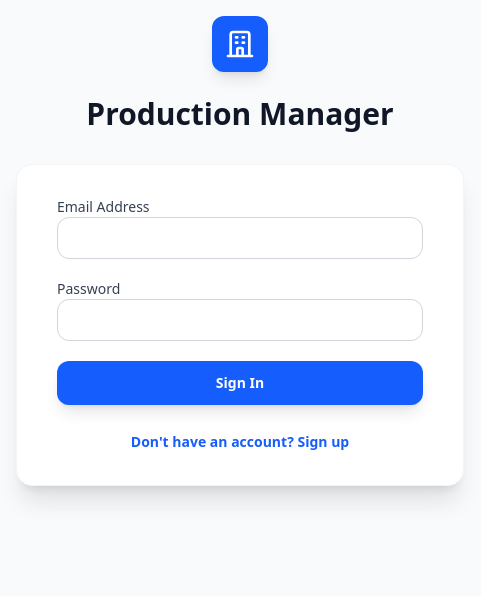
Test: Authentication › should fail to login with incorrect credentials
Type "wrong@admin.com" into the field with test id "email-input". click: {"x": 240, "y": 238}
box: top-left (57, 217), bottom-right (423, 259)
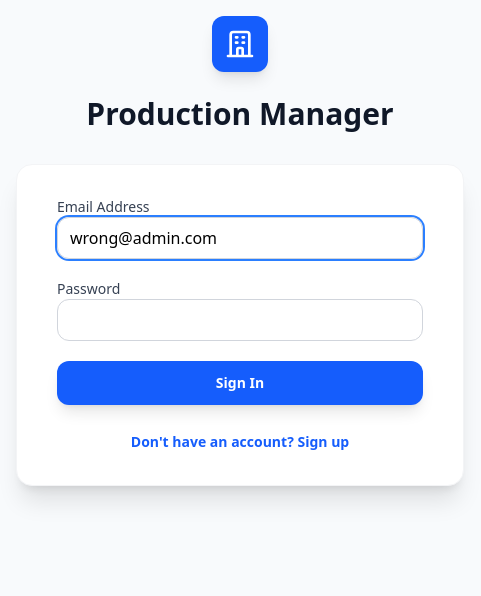
Type "WrongPass123" into the password field with test id "password-input". click: {"x": 240, "y": 320}
box: top-left (57, 299), bottom-right (423, 341)
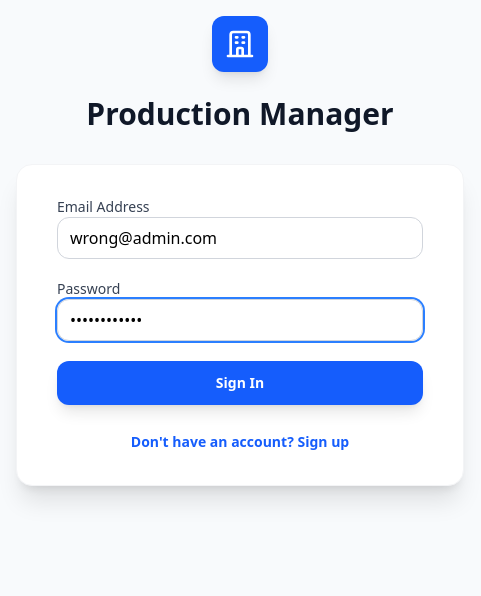
Click the button with test id "login-submit-button". click: {"x": 240, "y": 383}
box: top-left (57, 361), bottom-right (423, 405)
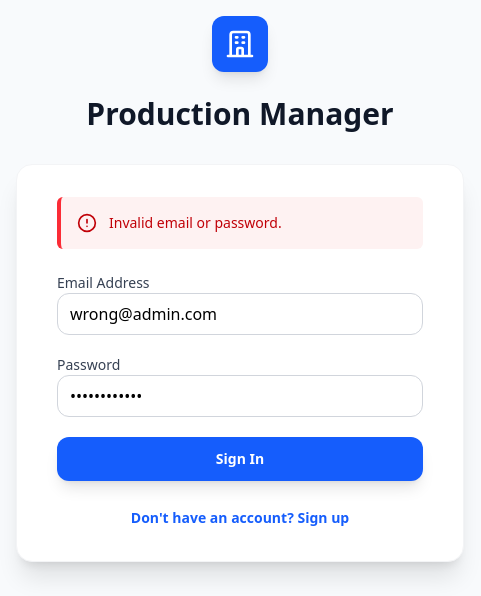
Expected: the element with test id "error-message" is not empty
Result: the element with test id "error-message" is shown at top-left (57, 197), bottom-right (423, 249)
